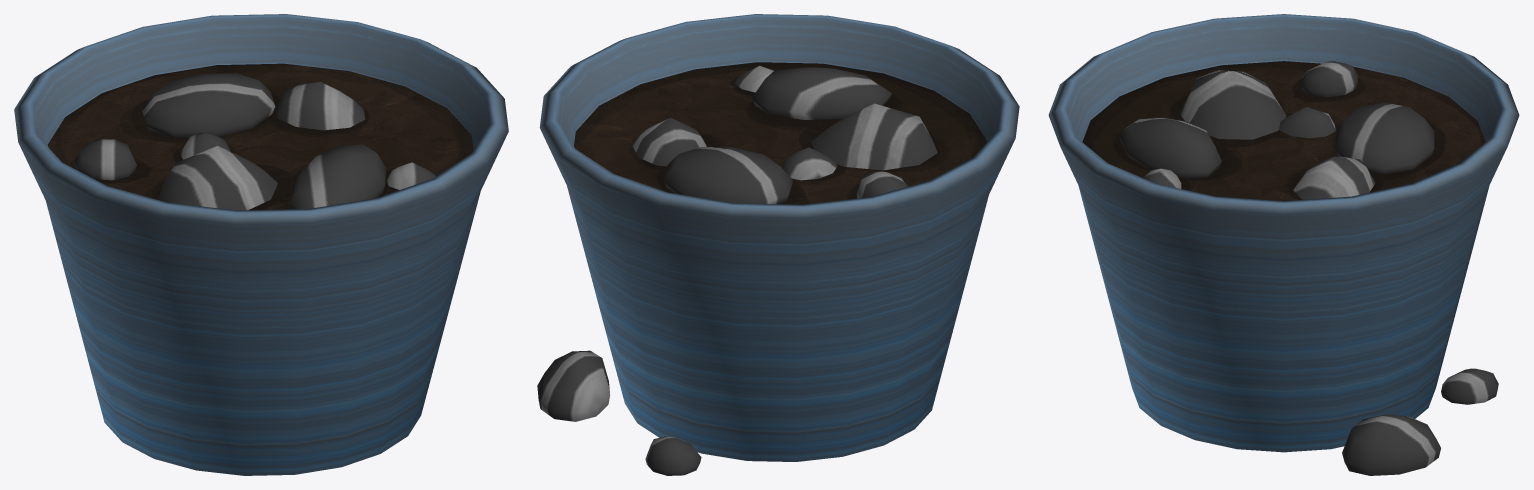
The model's file is pot.fbx.
The picture shows the model from 3 angles, left to right: view 1: azimuth 30°, elevation 25°; view 2: azimuth 150°, elevation 25°; view 3: azimuth 270°, elevation 25°; orthographic projection. The views are drawn at different scales.
Visible parts, largest first — view 1: pot; view 2: pot; view 3: pot.
Part boxes in pixels (x1,y1,x2,y2): pot: (14,14,508,475); pot: (537,14,1019,475); pot: (1048,14,1519,475).
Size of the model in its own units: 1.77 by 1.18 by 1.77.
